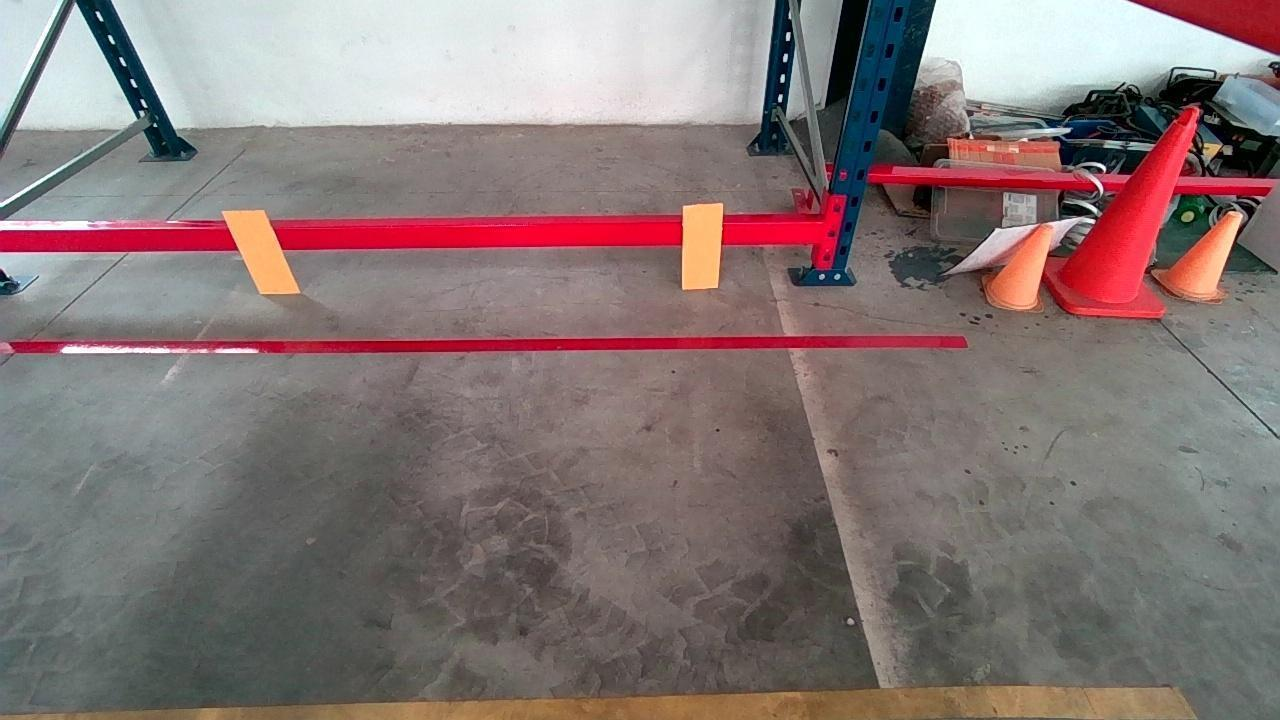red_line: (0, 334, 967, 355)
yellow_line: (11, 674, 1179, 720)
